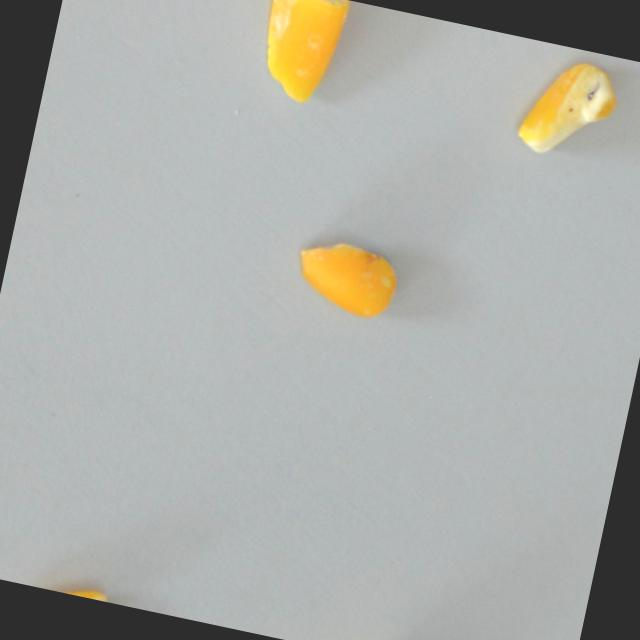dañado: (510, 47, 626, 171), (245, 0, 357, 117), (283, 227, 407, 326)
